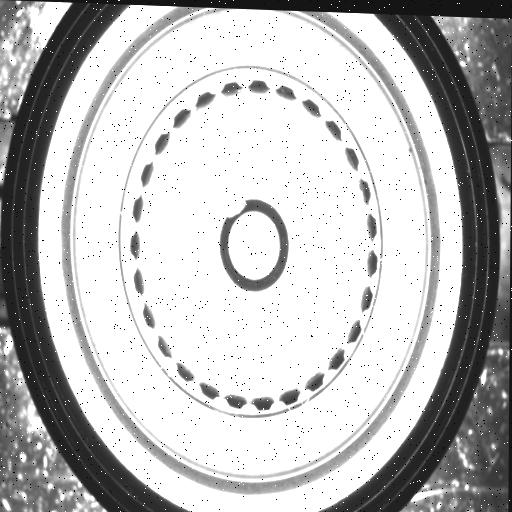gear: (124, 69, 385, 420)
